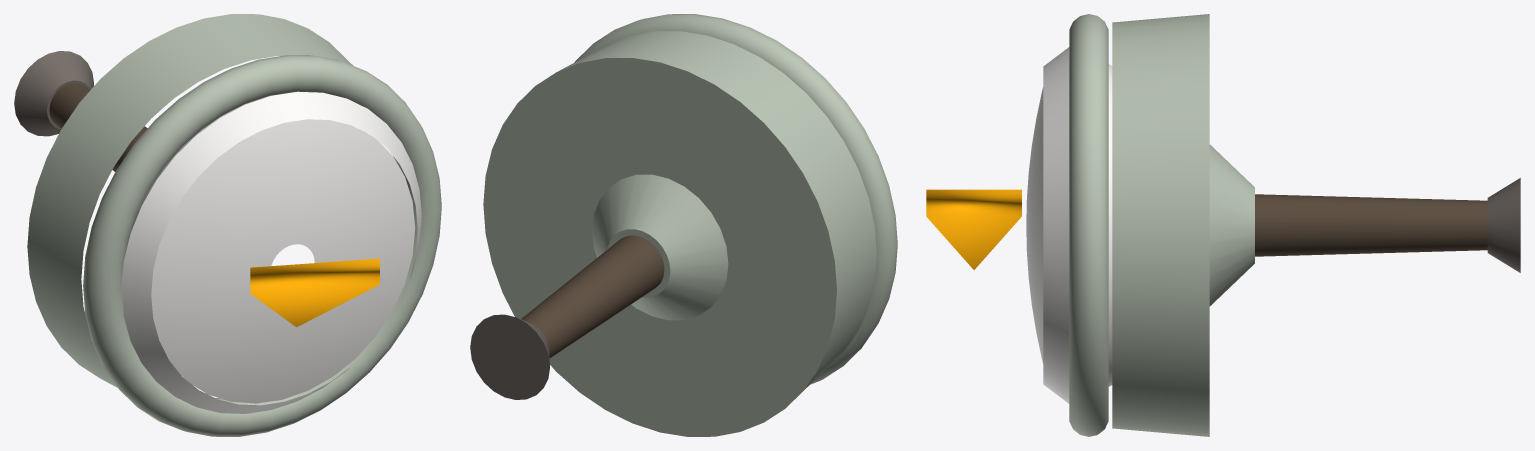
The model's file is pin-start-out.glb.
3 views of the same model, side by side, from view 1: azimuth 30°, elevation 25°; view 2: azimuth 150°, elevation 25°; view 3: azimuth 270°, elevation 25° (orthographic). The views are drawn at different scales.
Parts seen in each view (by area): view 1: plate_dome, ring, head, plate_bevel, play, foot, stem, plate_wall; view 2: head, collar, ring, stem, foot; view 3: head, ring, stem, plate_bevel, collar, play, plate_dome, foot, plate_wall.
Part boxes in pixels (x1,y1,x2,y2): plate_dome: (151,119,415,403); ring: (83,55,441,436); head: (27,14,353,387); plate_bevel: (121,91,421,413); play: (250,258,379,327); foot: (14,51,93,136); stem: (49,83,147,171); plate_wall: (121,92,294,314); head: (483,31,876,436); collar: (592,174,728,320); ring: (574,14,897,384); stem: (521,235,664,358); foot: (470,314,549,399); head: (1112,14,1209,436); ring: (1069,14,1108,436); stem: (1255,194,1487,256); plate_bevel: (1043,47,1069,403); collar: (1209,144,1254,306); play: (926,189,1021,269); plate_dome: (1026,87,1043,363); foot: (1487,178,1520,272); plate_wall: (1108,64,1112,386).
Bounding box in the file's own units: 0.796 × 0.796 × 1.12.
